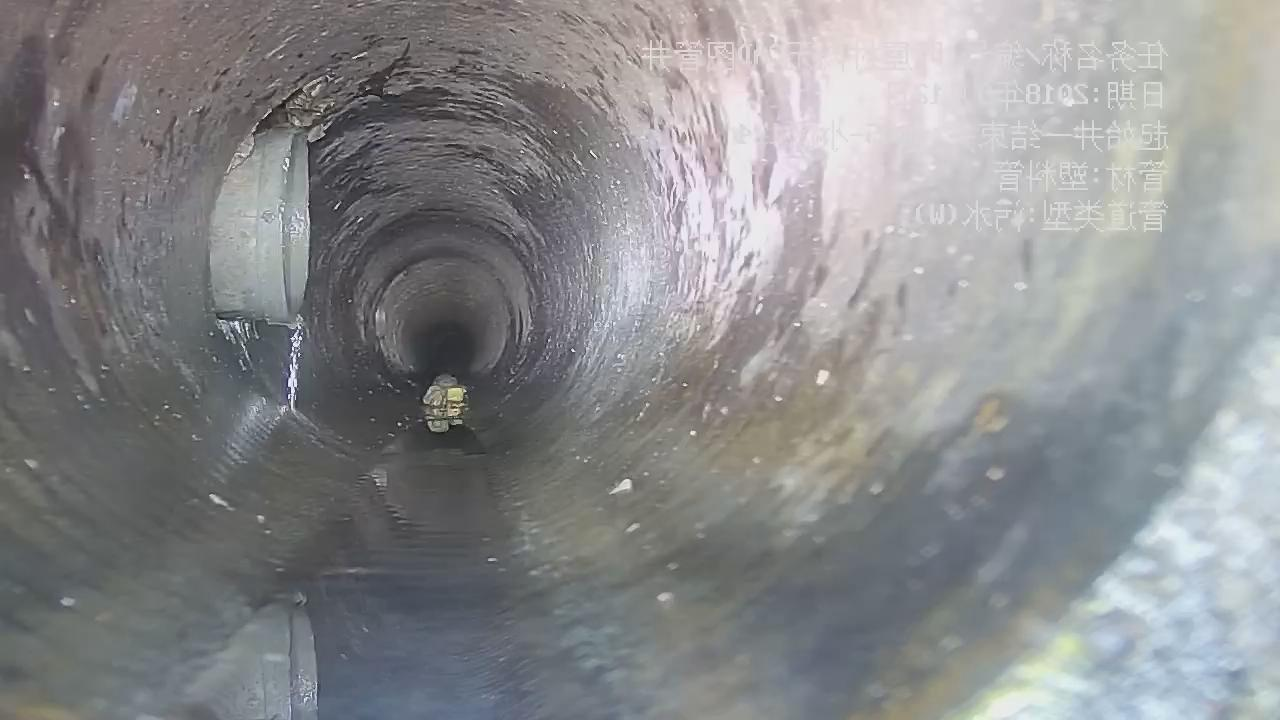PL: (250, 82, 309, 138)
ZGAJ: (208, 126, 309, 327)
